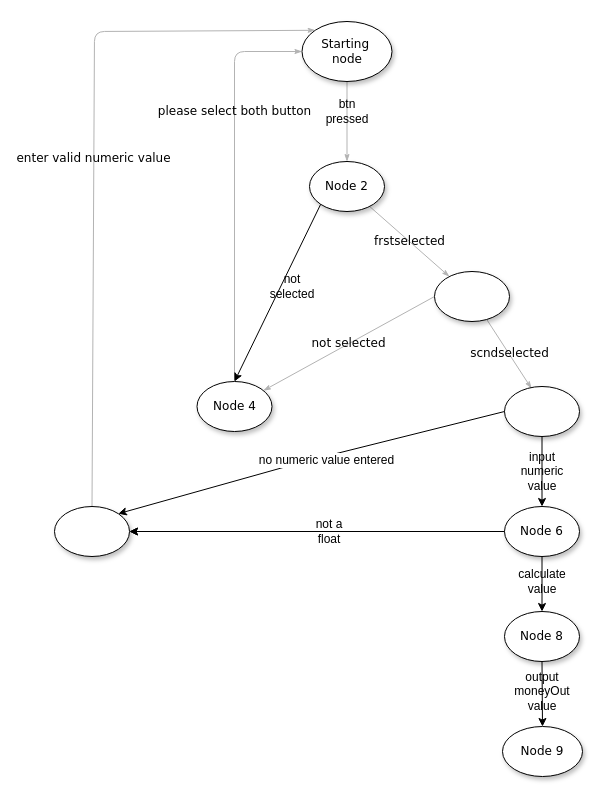
Image size: 607x801. Some labels were removed from this diagram. Here are the shapes that lost their labels. From the top down, the centre of each, then its label:
At (473,297): "Node 3".
At (543,413): "Node 5".
At (93,533): "Node 7".
